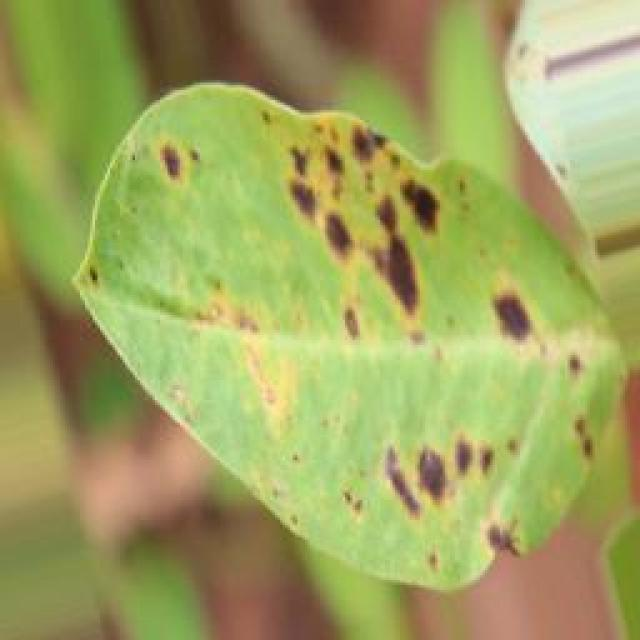Yellowish: (72, 37, 635, 640)
